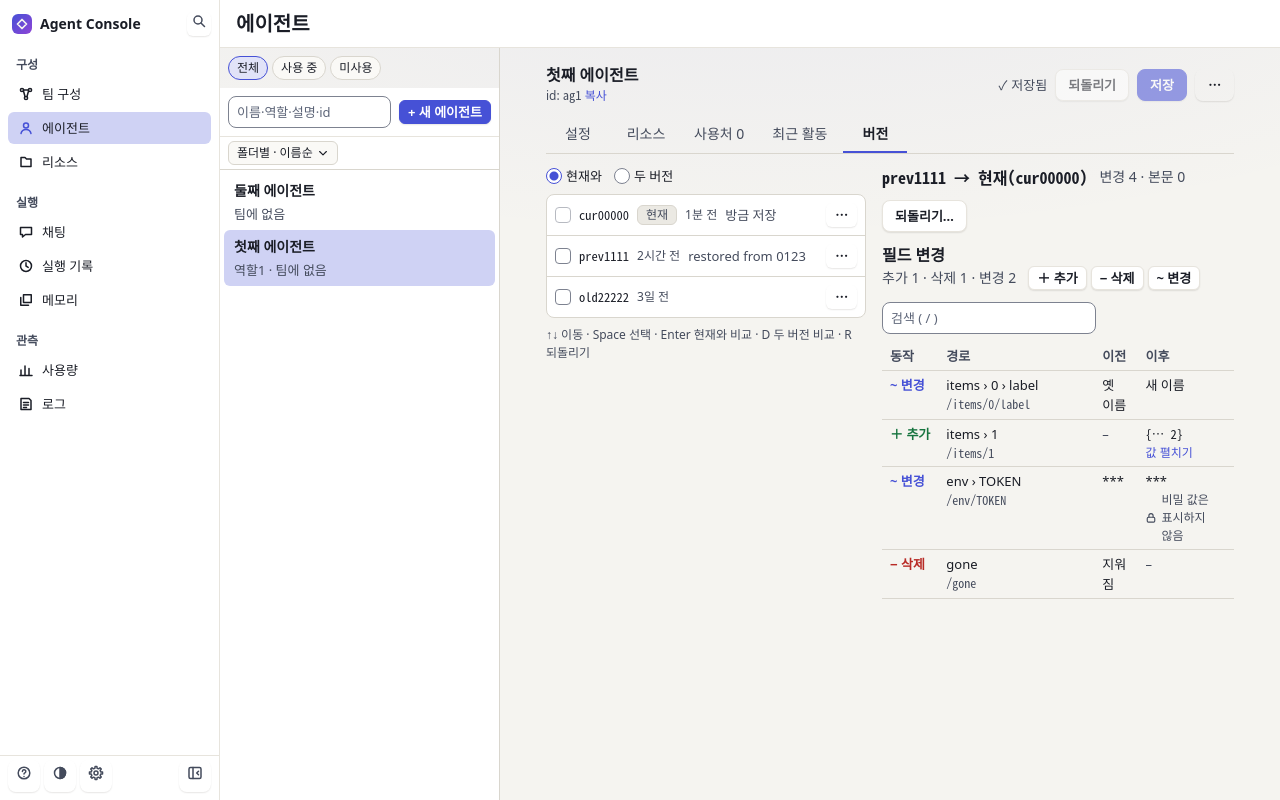
Test case: 버전 탭: 목록과 비교 › 비밀 행은 서버가 준 ***만 보이고 칩이 붙으며 값으로 검색되지 않는다
This screenshot has width=1280, height=800.
Expected: the list named "버전 목록" is shown, [546,194,866,318]
Expected: the text "***" is shown 2 times, [1102,472,1124,490]; [1146,472,1167,490]
In the search field named "경로·값 검색": (989, 318) [882,302,1096,334], type "***"
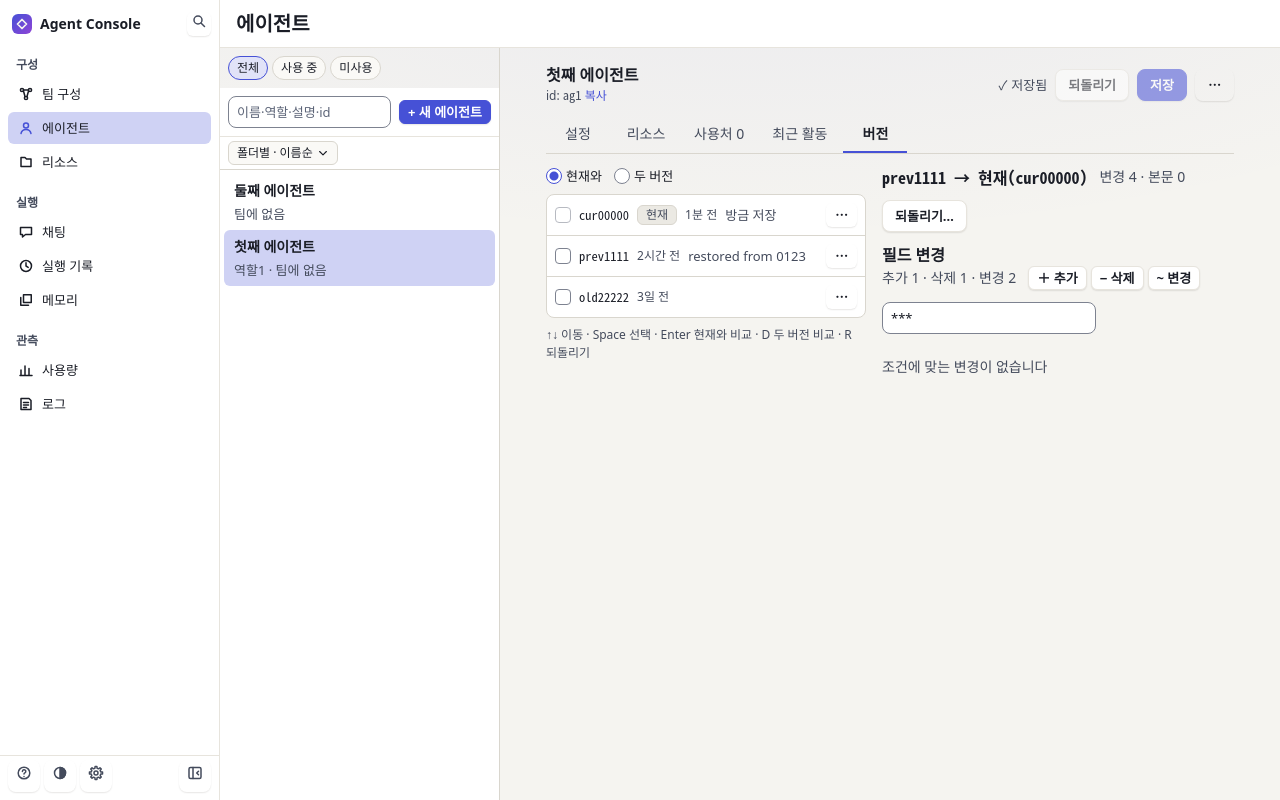
Now the text "조건에 맞는 변경이 없습니다" is shown, box [882,357,1048,376]
